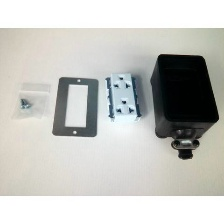three_eye_plug: (147, 52, 220, 144), (101, 69, 144, 128)
